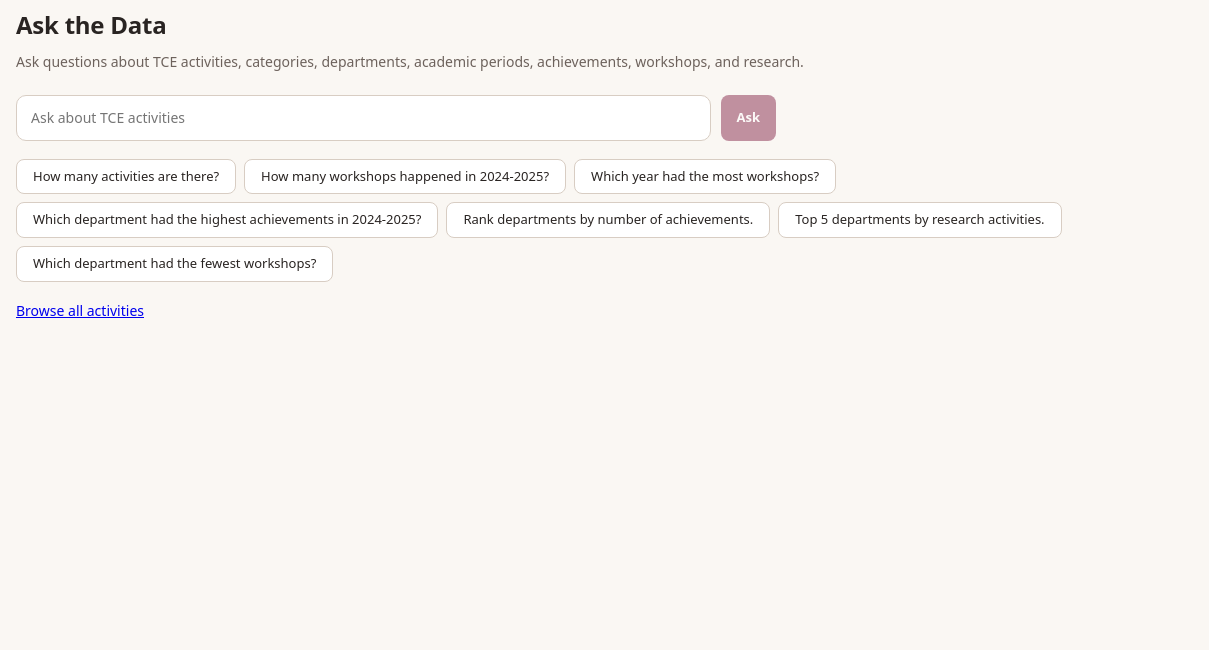
it: Ask the Data › renders grounded public answers and activity links without internal details
The width and height of the screenshot is (1209, 650).
Click the button "How many activities are there?" at (126, 177), box [16, 159, 236, 194]
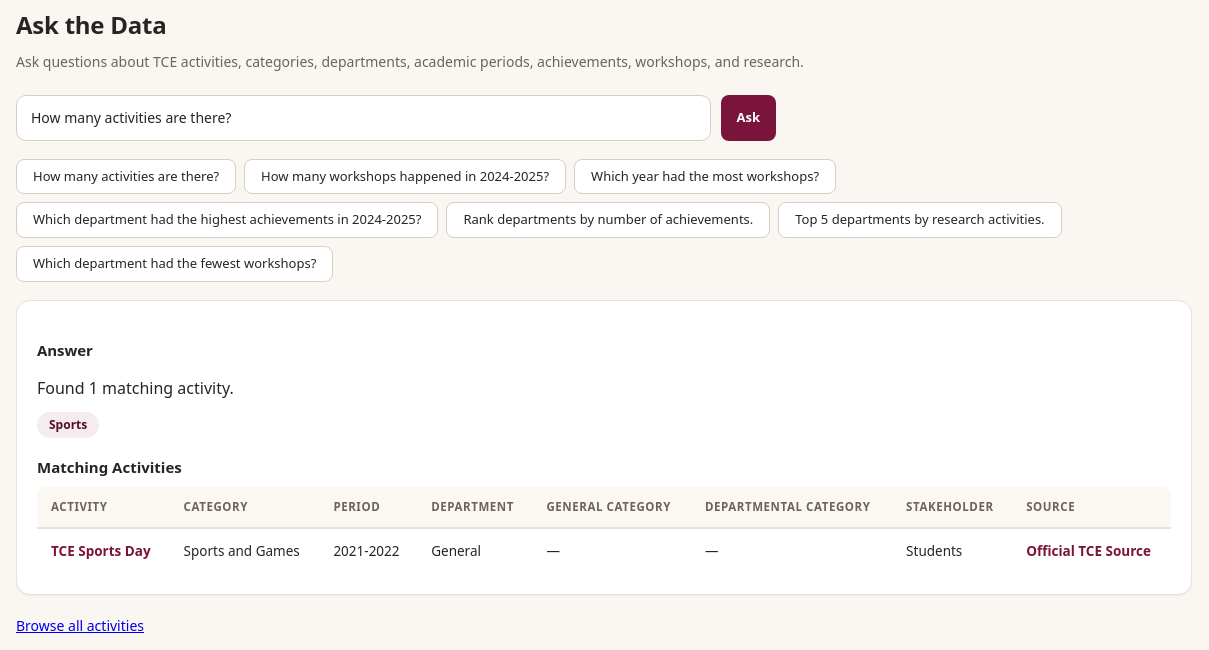
expect the text "Found 1 matching activity." is shown: met, box [37, 377, 234, 399]
expect the text "Sports and Games" is shown: met, box [170, 528, 319, 574]
expect the text "2021-2022" is shown: met, box [319, 528, 417, 574]
